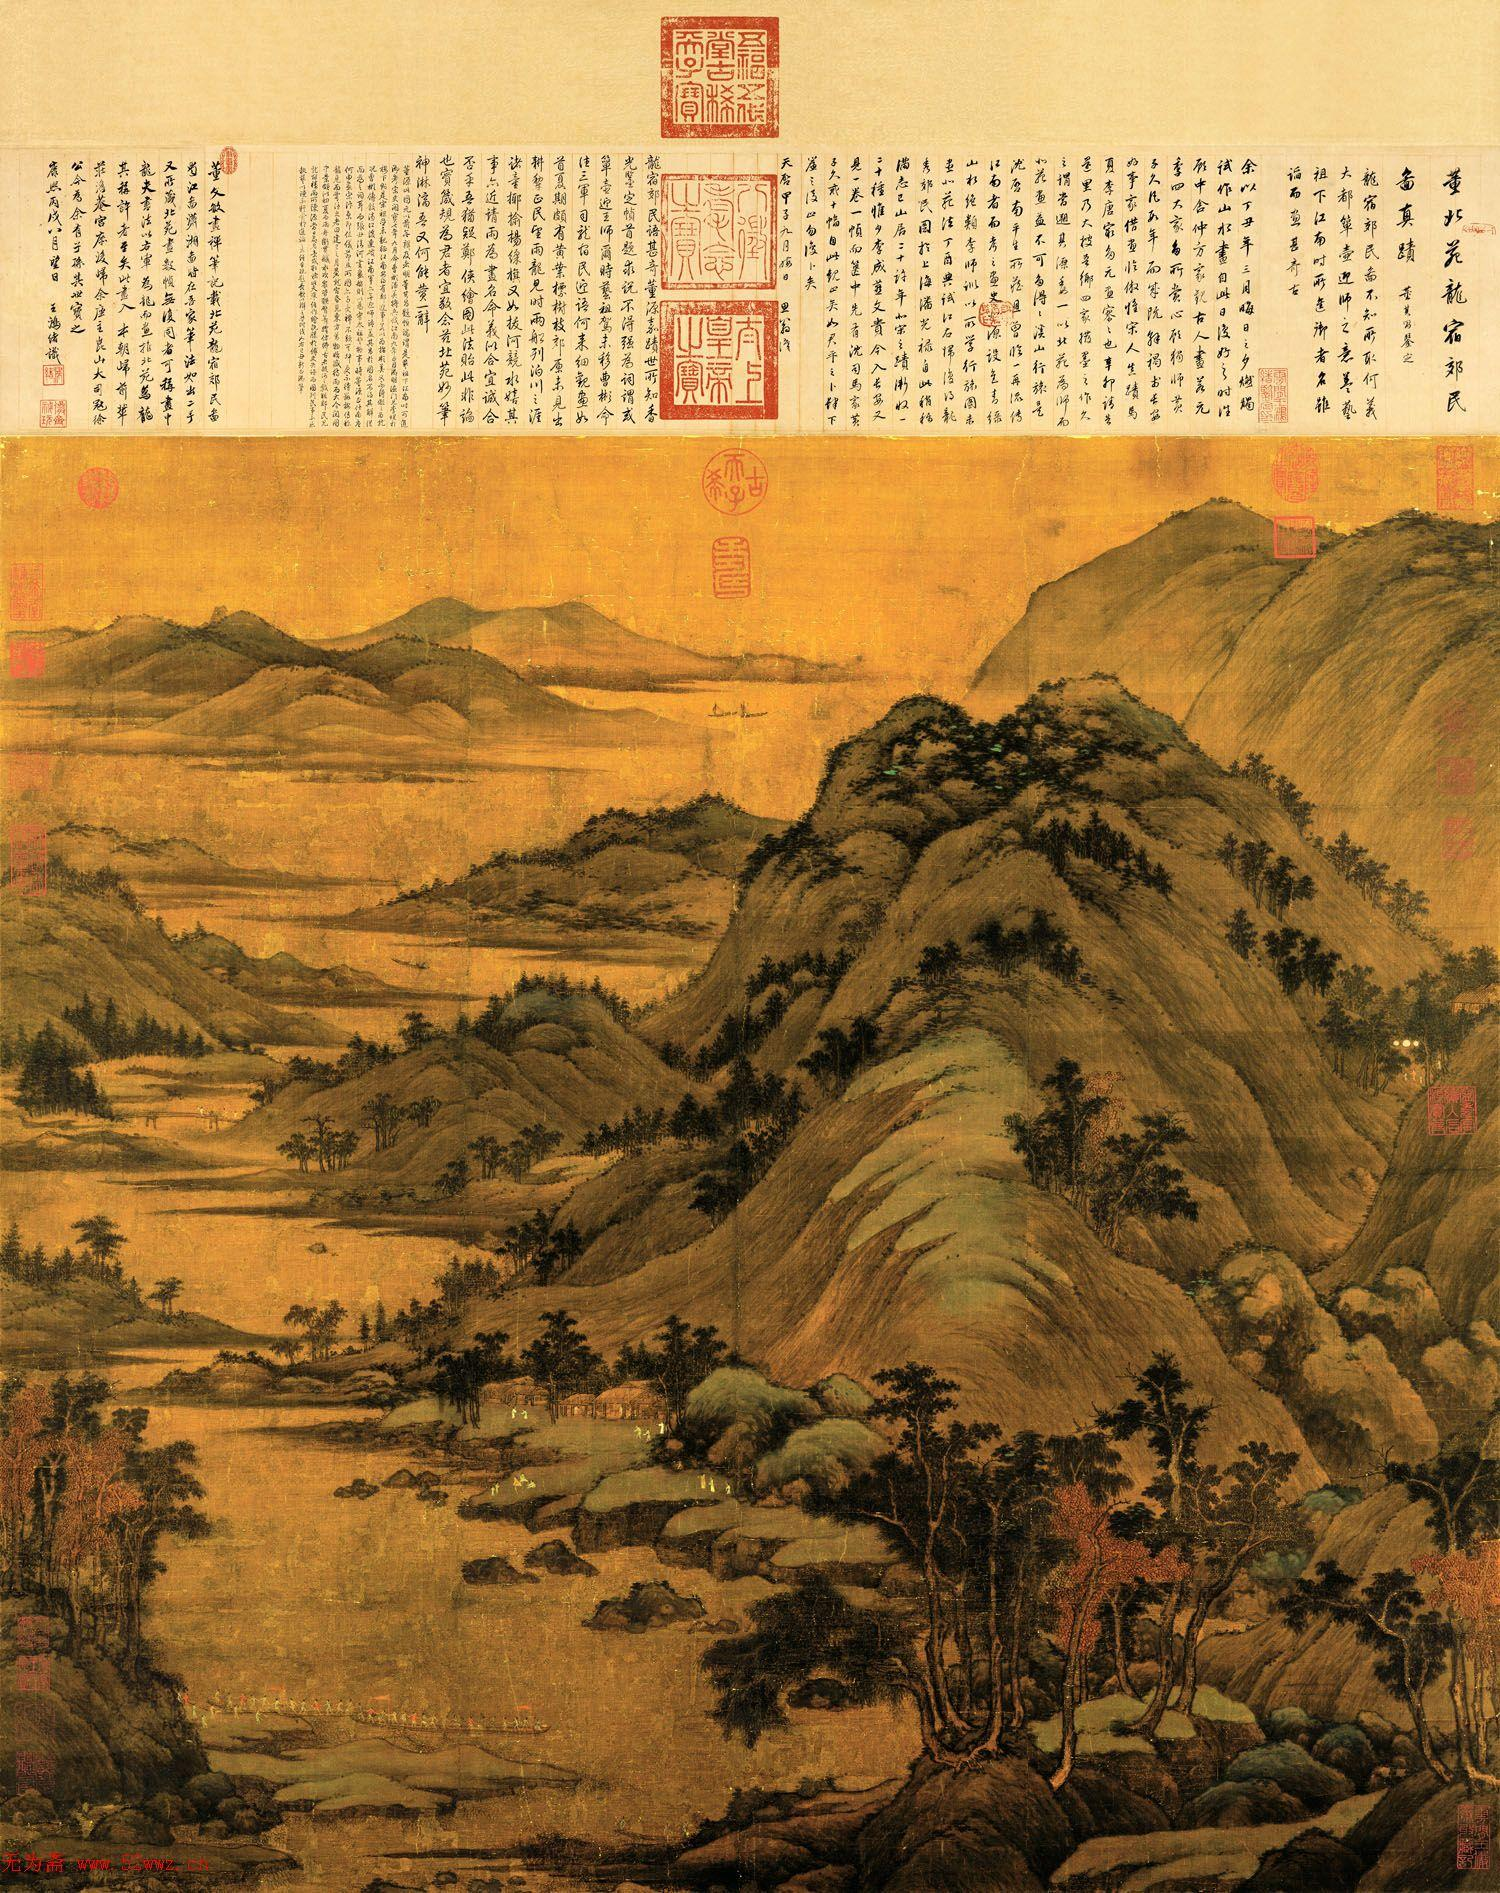boat: (354, 1710, 548, 1740), (204, 1693, 361, 1715), (613, 1823, 690, 1840), (389, 952, 434, 976)
bridge: (113, 1108, 246, 1132)
house: (560, 1382, 666, 1419), (485, 1377, 553, 1406)
kid: (724, 1483, 732, 1495)
man: (358, 1703, 540, 1730), (212, 1686, 356, 1712), (177, 1691, 211, 1726), (513, 1473, 536, 1493), (220, 1103, 242, 1119), (491, 1482, 502, 1498), (656, 1421, 667, 1436), (231, 1704, 242, 1720), (255, 1707, 265, 1724), (708, 1473, 716, 1494), (633, 1425, 643, 1439), (198, 1102, 207, 1117), (644, 1427, 652, 1443), (511, 1404, 517, 1419), (521, 1407, 528, 1419)
mountain: (735, 681, 1421, 1514)
range: (45, 587, 685, 764)
river: (95, 1091, 735, 1887), (225, 854, 531, 1047)
tree: (858, 1387, 1171, 1757), (1, 1379, 181, 1626)
woman: (696, 1471, 707, 1490)
